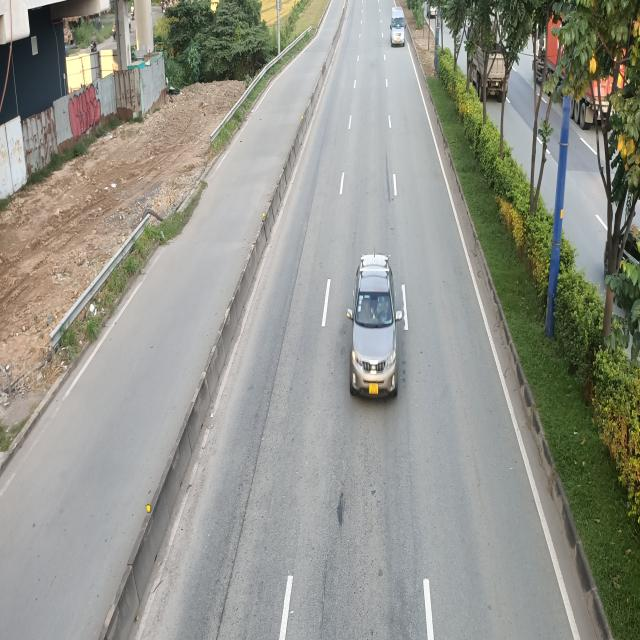car: (348, 257, 402, 401)
van: (389, 8, 405, 48)
